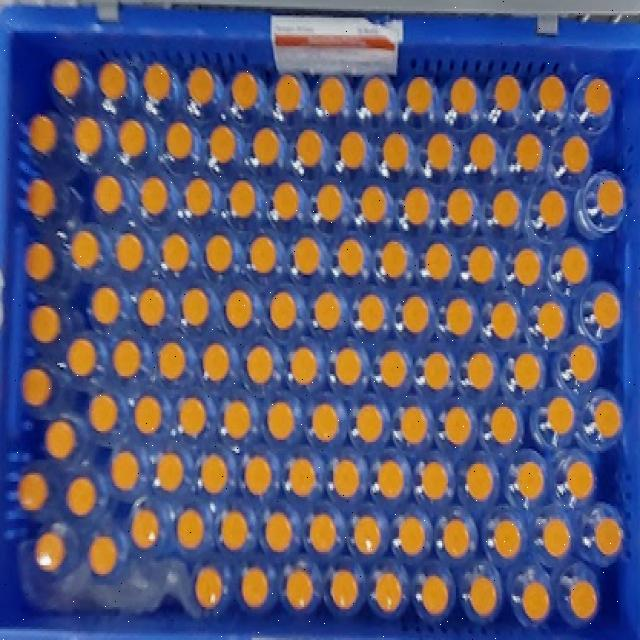vials: (66, 476, 98, 518), (45, 419, 76, 460), (155, 451, 184, 493), (241, 566, 269, 609), (89, 536, 118, 577), (330, 570, 359, 611), (30, 306, 61, 344), (21, 369, 52, 407), (89, 394, 119, 433), (19, 473, 49, 512), (35, 532, 65, 571), (195, 566, 222, 609), (52, 59, 81, 99), (181, 288, 210, 328), (111, 451, 140, 491), (465, 462, 494, 502), (492, 519, 521, 559), (521, 582, 550, 622), (201, 453, 229, 494), (131, 509, 159, 550), (176, 509, 204, 550), (221, 511, 249, 552), (542, 518, 570, 559), (286, 570, 314, 611), (470, 577, 498, 618), (224, 399, 251, 441), (375, 571, 402, 613), (29, 115, 58, 154), (26, 242, 55, 281), (112, 339, 141, 378), (74, 116, 102, 156), (252, 127, 280, 167), (28, 179, 56, 219), (290, 347, 318, 387), (380, 349, 408, 389), (421, 462, 449, 502), (566, 460, 594, 500), (442, 519, 470, 559), (570, 580, 598, 620), (245, 455, 272, 496), (289, 457, 316, 498), (265, 512, 292, 553), (422, 575, 449, 616), (71, 231, 100, 269), (116, 233, 144, 272), (246, 346, 274, 385), (570, 344, 598, 383), (134, 396, 162, 435), (311, 403, 339, 442), (332, 459, 360, 498), (119, 118, 146, 158), (209, 125, 236, 165), (468, 245, 495, 285), (225, 290, 252, 330), (159, 342, 186, 382), (335, 347, 362, 387), (268, 401, 295, 441), (594, 399, 621, 439), (378, 460, 405, 500), (99, 63, 128, 100), (91, 287, 120, 324), (466, 353, 495, 390), (450, 77, 478, 115), (562, 136, 590, 174), (94, 176, 122, 214), (141, 177, 169, 215), (446, 188, 474, 226), (561, 247, 589, 285), (270, 292, 298, 330), (202, 344, 230, 382), (144, 63, 171, 102), (319, 77, 346, 116), (362, 77, 389, 116), (382, 133, 409, 172), (469, 133, 496, 172), (205, 235, 232, 274), (381, 240, 408, 279), (425, 242, 452, 281), (314, 292, 341, 331), (358, 294, 385, 333), (491, 301, 518, 340), (179, 398, 206, 437), (401, 407, 428, 446), (444, 407, 471, 446), (548, 396, 575, 435), (354, 516, 381, 555), (595, 518, 622, 557), (294, 236, 320, 276), (338, 238, 364, 278), (446, 297, 472, 337), (518, 462, 544, 502), (492, 190, 520, 227), (162, 233, 190, 270), (68, 339, 96, 376), (490, 407, 518, 444), (188, 66, 215, 104), (185, 179, 212, 217), (229, 181, 256, 219), (272, 183, 299, 221), (514, 249, 541, 287), (138, 288, 165, 326), (402, 296, 429, 334), (296, 129, 322, 168), (340, 131, 366, 170), (424, 351, 450, 390), (310, 514, 336, 553), (399, 516, 425, 555), (231, 72, 258, 109), (494, 75, 521, 112), (539, 190, 566, 227), (538, 303, 565, 340), (514, 353, 541, 390), (275, 75, 301, 113), (406, 77, 432, 115), (516, 134, 542, 172), (316, 184, 342, 222), (404, 188, 430, 226), (598, 179, 624, 217), (250, 236, 276, 274), (594, 292, 620, 330), (166, 122, 192, 159), (426, 133, 452, 170), (356, 405, 382, 442), (361, 186, 386, 224), (539, 75, 565, 111), (585, 79, 611, 115)
